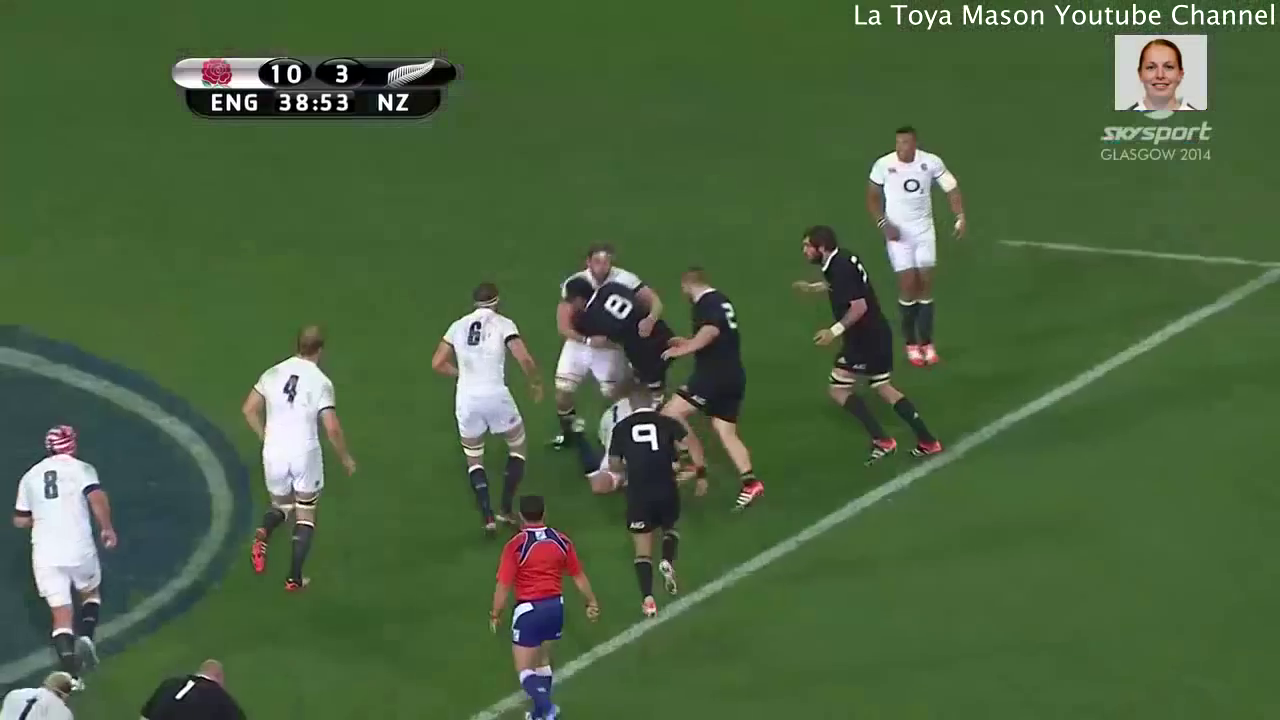player: (783, 223, 946, 470), (230, 320, 368, 602), (857, 118, 979, 376), (5, 419, 118, 695), (425, 279, 540, 545), (657, 262, 769, 521), (485, 486, 598, 720), (601, 384, 689, 620), (133, 651, 252, 720), (1, 668, 82, 720)
